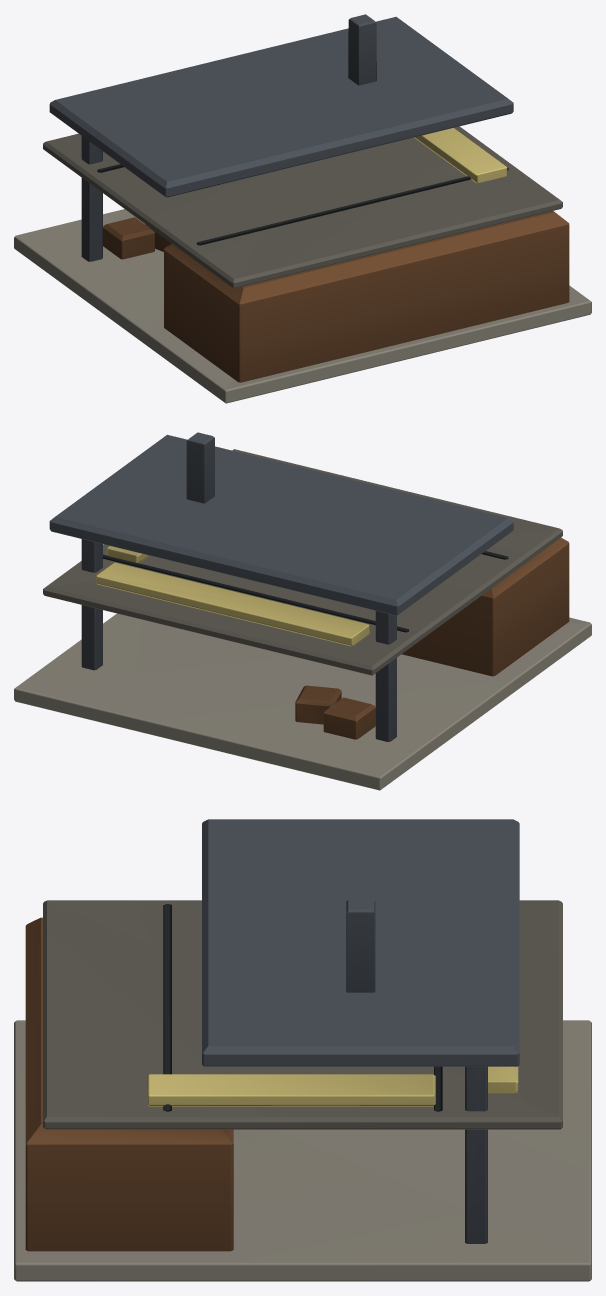
File: repair_depot.glb
The picture shows the model from 3 angles, top to bottom: view 1: azimuth 30°, elevation 25°; view 2: azimuth 150°, elevation 25°; view 3: azimuth 270°, elevation 25°; orthographic projection. The views are drawn at different scales.
Visible parts, largest first — view 1: Body; view 2: Body; view 3: Body.
Part boxes in pixels (x1=…): Body: x1=14, y1=14, x2=591, y2=403; Body: x1=14, y1=432, x2=591, y2=790; Body: x1=14, y1=819, x2=591, y2=1281.
Bounding box in the file's own units: 6 × 3.55 × 6.
